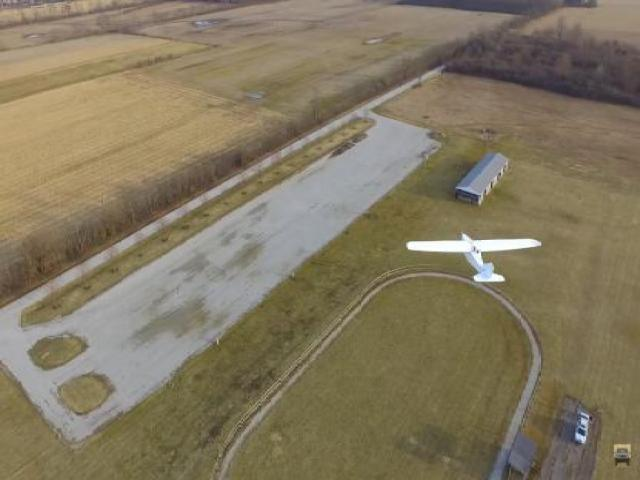uav: (400, 219, 545, 294)
